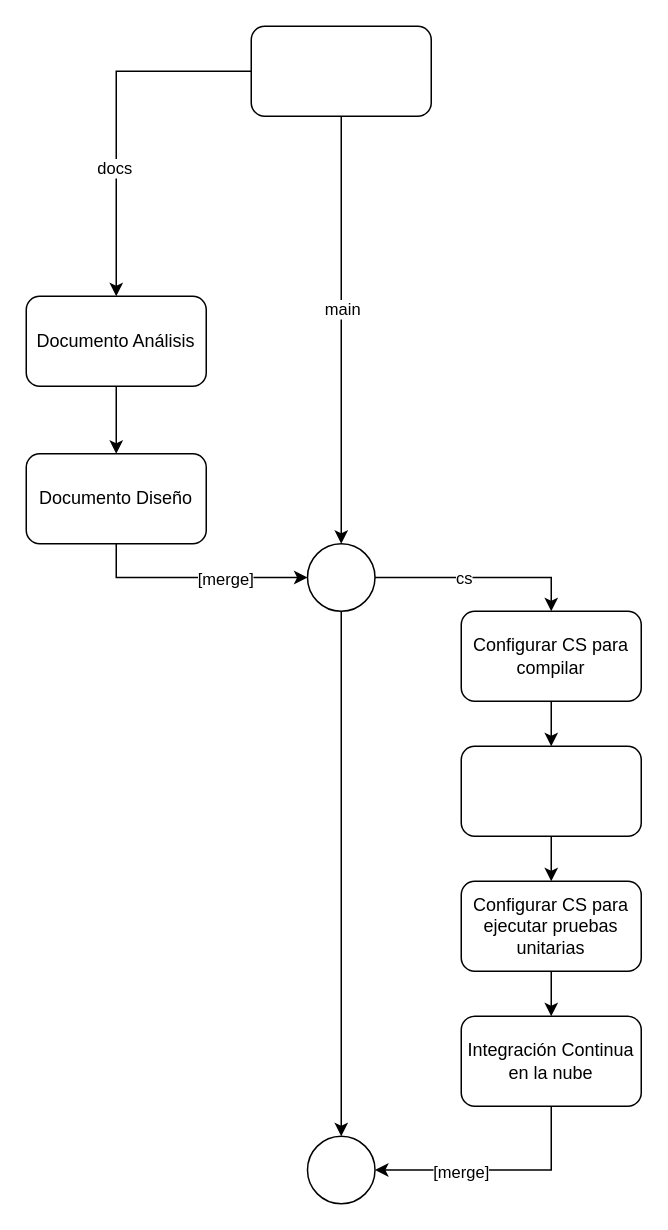
This 668x1230 diagram has some shape labels left out. Here are the shapes that lost their labels. From the top down, the centre of each, then its label:
At (340,70): "Crear Repositorio".
At (550,790): "Configurar CS para generar documentación".
